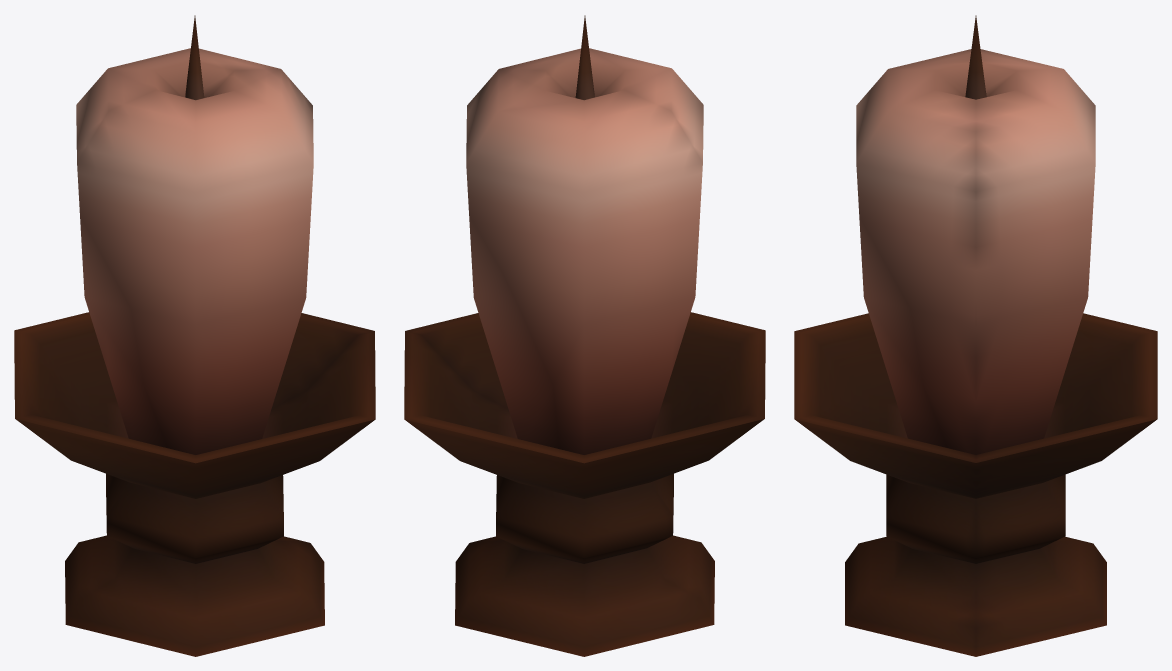
File: Candle_03.FBX
3 renders of one model, left to right at view 1: azimuth 30°, elevation 25°; view 2: azimuth 150°, elevation 25°; view 3: azimuth 270°, elevation 25°, orthographic.
Parts seen in each view (by area): view 1: Candle_03; view 2: Candle_03; view 3: Candle_03.
Part boxes in pixels (left/top/right/bottom): Candle_03: left=14, top=15, right=375, bottom=656; Candle_03: left=404, top=15, right=765, bottom=656; Candle_03: left=794, top=15, right=1157, bottom=656.
Bounding box in the file's own units: 11.43 × 17.58 × 9.99.
